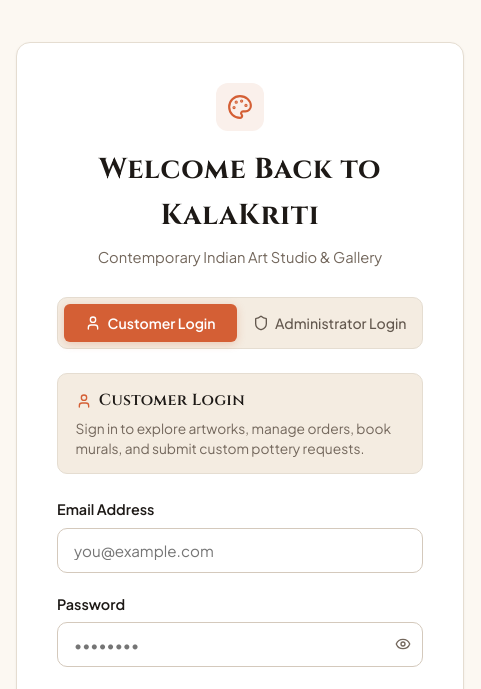
Test case: Authentication Navigation & Navbar Active Highlighting › 14. displays clear error if customer account attempts to sign in through Administrator Login
The width and height of the screenshot is (481, 689).
// Switch to Administrator tab
Click the tab "Administrator Login" at (330, 323), box [243, 304, 416, 342]
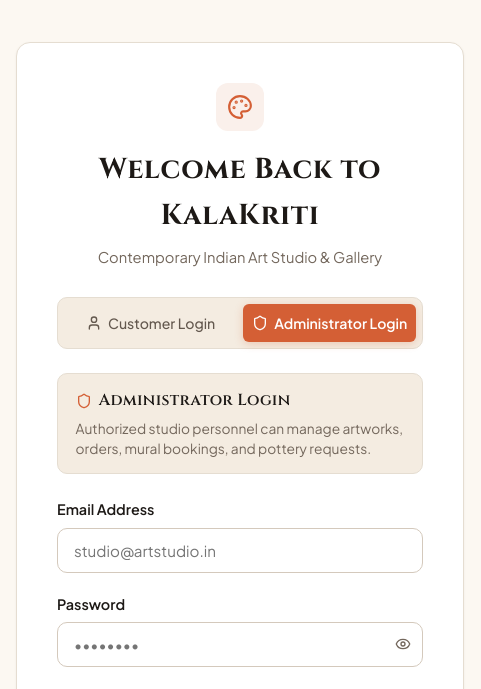
// Fill in customer credentials
Type "rohan@example.com" into the field labelled "Email Address" at (240, 550), box [57, 528, 423, 572]
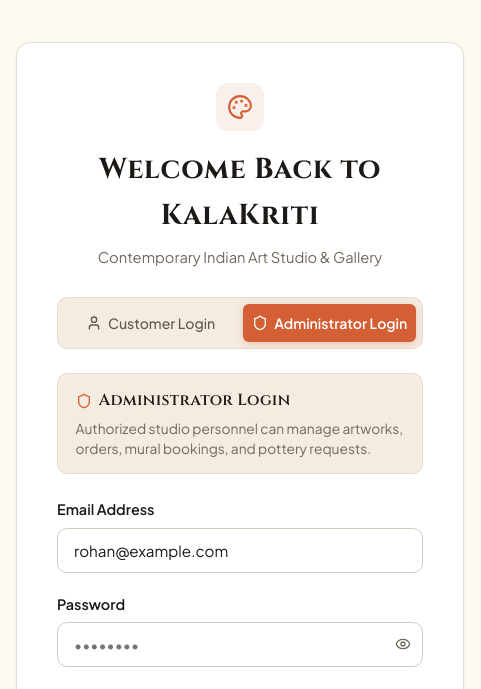
Type "CustomerPass123" into the password field labelled "Password" at (240, 644), box [57, 622, 423, 667]
(page scrolled)
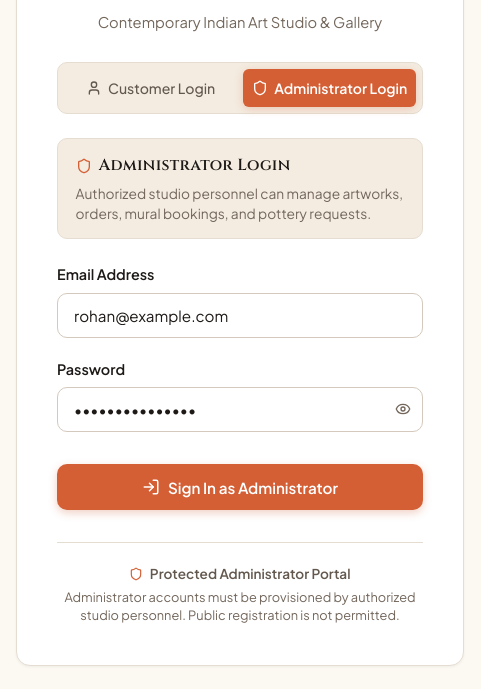
// Submit form
Click the button "Sign In as Administrator" at (240, 487), box [57, 464, 423, 510]
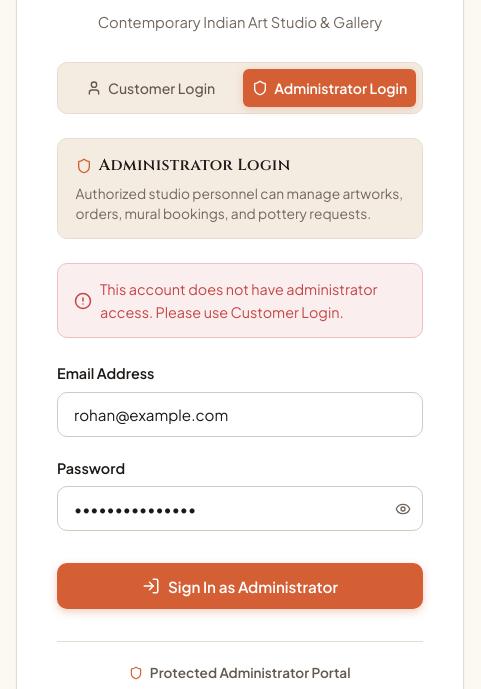
Now the message "This account does not have administrator access. Please use Customer Login." is shown, box [57, 263, 423, 338]
Now the text "This account does not have administrator access. Please use Customer Login." is shown, box [100, 278, 406, 324]
